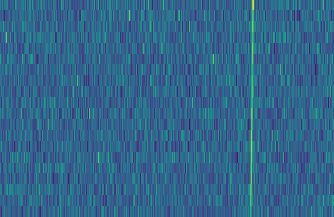signal: (247, 0, 258, 217)
